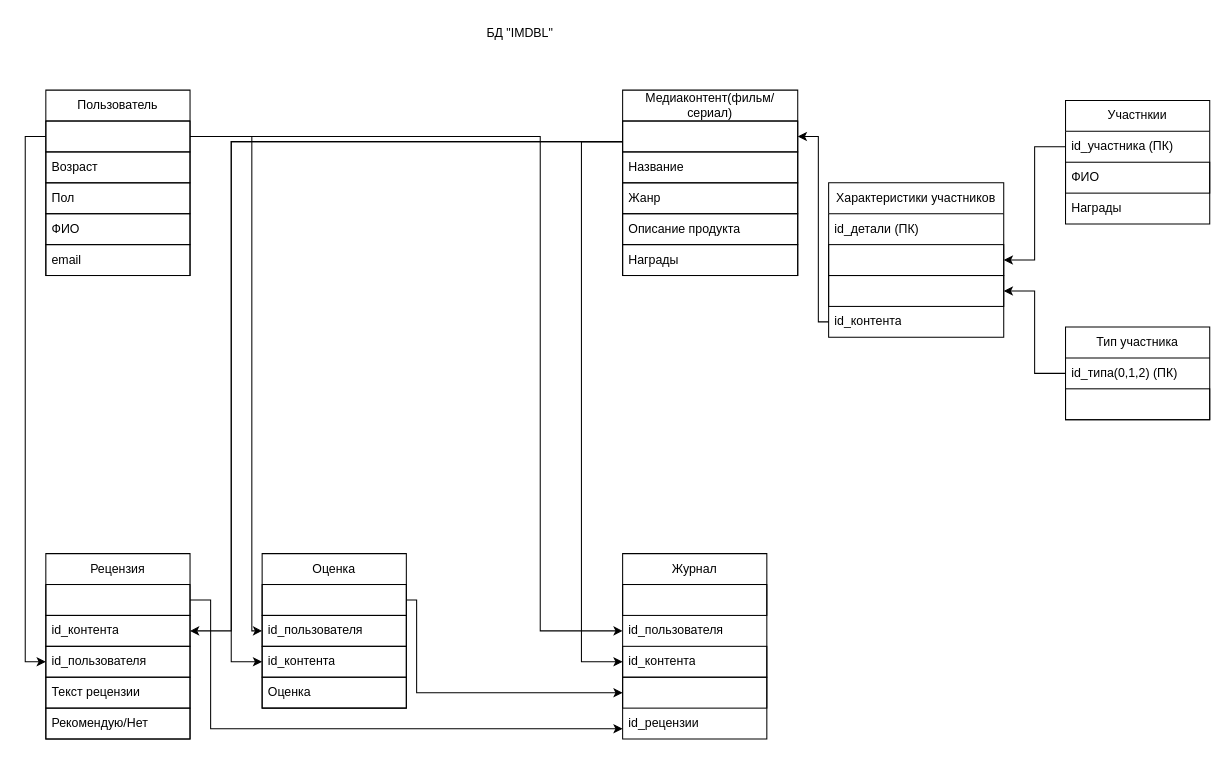
Image size: 1228x757. Some labels were removed from this diagram. The shapes that lost their labels are listed below. From the top down, each one's centre as x and y in pixels, then its label:
the point at 117,136: id_пользователя (ПК)
the point at 710,136: id_контента (ПК)
the point at 916,260: id_участника
the point at 916,290: тип_участника (0,1,2)
the point at 1137,404: тип_участника
the point at 117,599: id_рецензии (ПК)
the point at 333,599: id_оценки (ПК)
the point at 694,599: id_записи (ПК)
the point at 694,692: id_оценки
